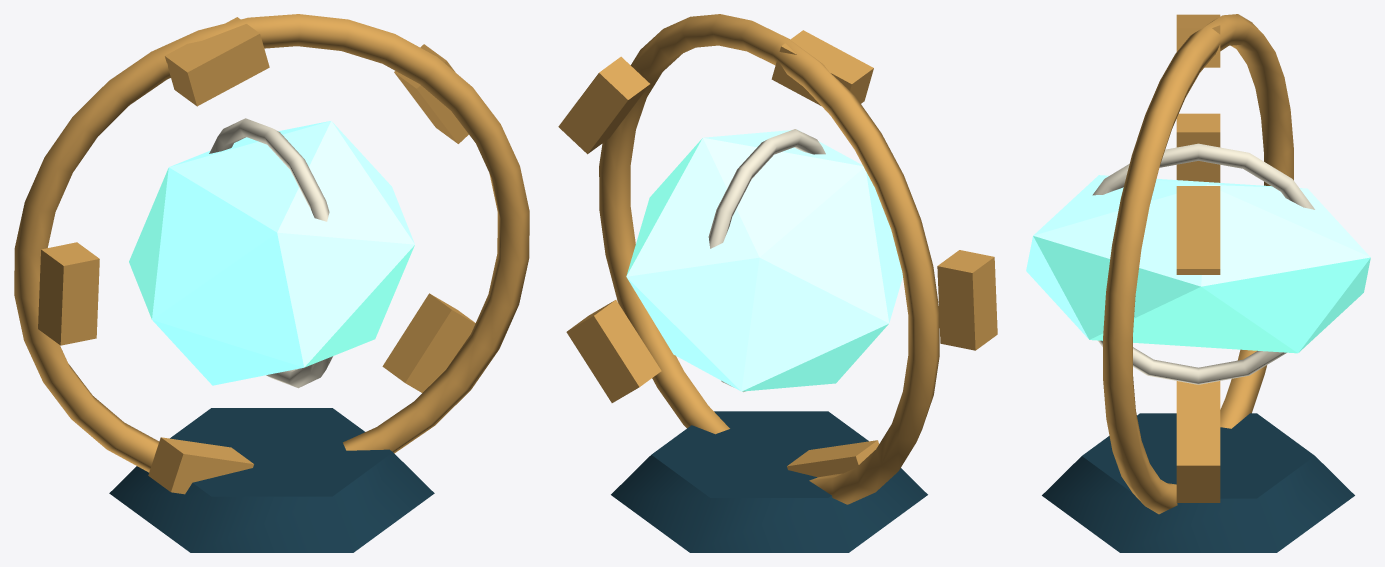
The model's file is relic-11.glb.
The picture shows the model from 3 angles, left to right: view 1: azimuth 30°, elevation 25°; view 2: azimuth 150°, elevation 25°; view 3: azimuth 270°, elevation 25°; orthographic projection. The views are drawn at different scales.
Visible parts, largest first — view 1: aged-brass-merged, aether-glass-merged, deep-basalt-merged, chalk-sail-merged; view 2: aether-glass-merged, aged-brass-merged, deep-basalt-merged, chalk-sail-merged; view 3: aether-glass-merged, aged-brass-merged, deep-basalt-merged, chalk-sail-merged.
Part boxes in pixels (x1,y1,x2,y2): aged-brass-merged: (14, 14, 529, 494); aether-glass-merged: (129, 121, 414, 385); deep-basalt-merged: (109, 408, 434, 552); chalk-sail-merged: (209, 118, 332, 388); aether-glass-merged: (626, 129, 902, 391); aged-brass-merged: (558, 14, 997, 504); deep-basalt-merged: (611, 411, 927, 552); chalk-sail-merged: (708, 129, 825, 392); aether-glass-merged: (1026, 175, 1370, 353); aged-brass-merged: (1103, 14, 1293, 514); deep-basalt-merged: (1042, 413, 1354, 552); chalk-sail-merged: (1092, 143, 1314, 384).
Size of the model in its own units: 1.33 by 1.39 by 0.9457.
